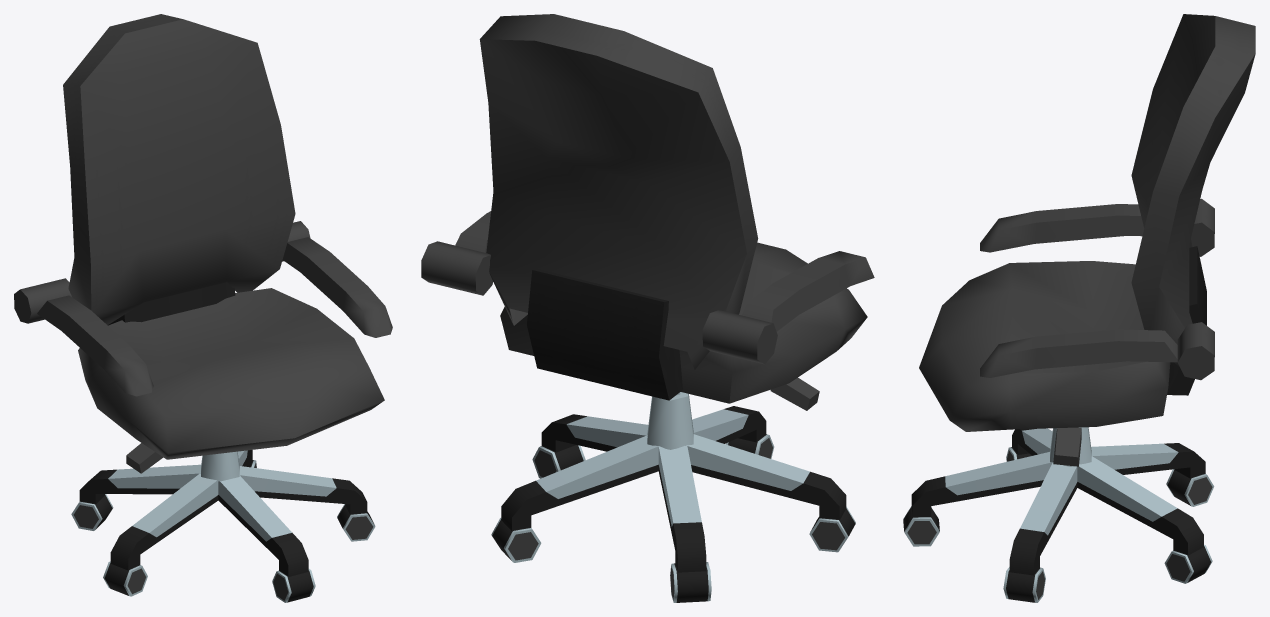
File: office_chair_018.fbx
The picture shows the model from 3 angles, left to right: view 1: azimuth 30°, elevation 25°; view 2: azimuth 150°, elevation 25°; view 3: azimuth 270°, elevation 25°; orthographic projection. The views are drawn at different scales.
Visible parts, largest first — view 1: office_chair_018; view 2: office_chair_018; view 3: office_chair_018.
Part boxes in pixels (x1=…): office_chair_018: x1=14, y1=14, x2=392, y2=602; office_chair_018: x1=421, y1=14, x2=874, y2=602; office_chair_018: x1=903, y1=14, x2=1255, y2=602.
Bounding box in the file's own units: 64.83 × 65.61 × 104.
